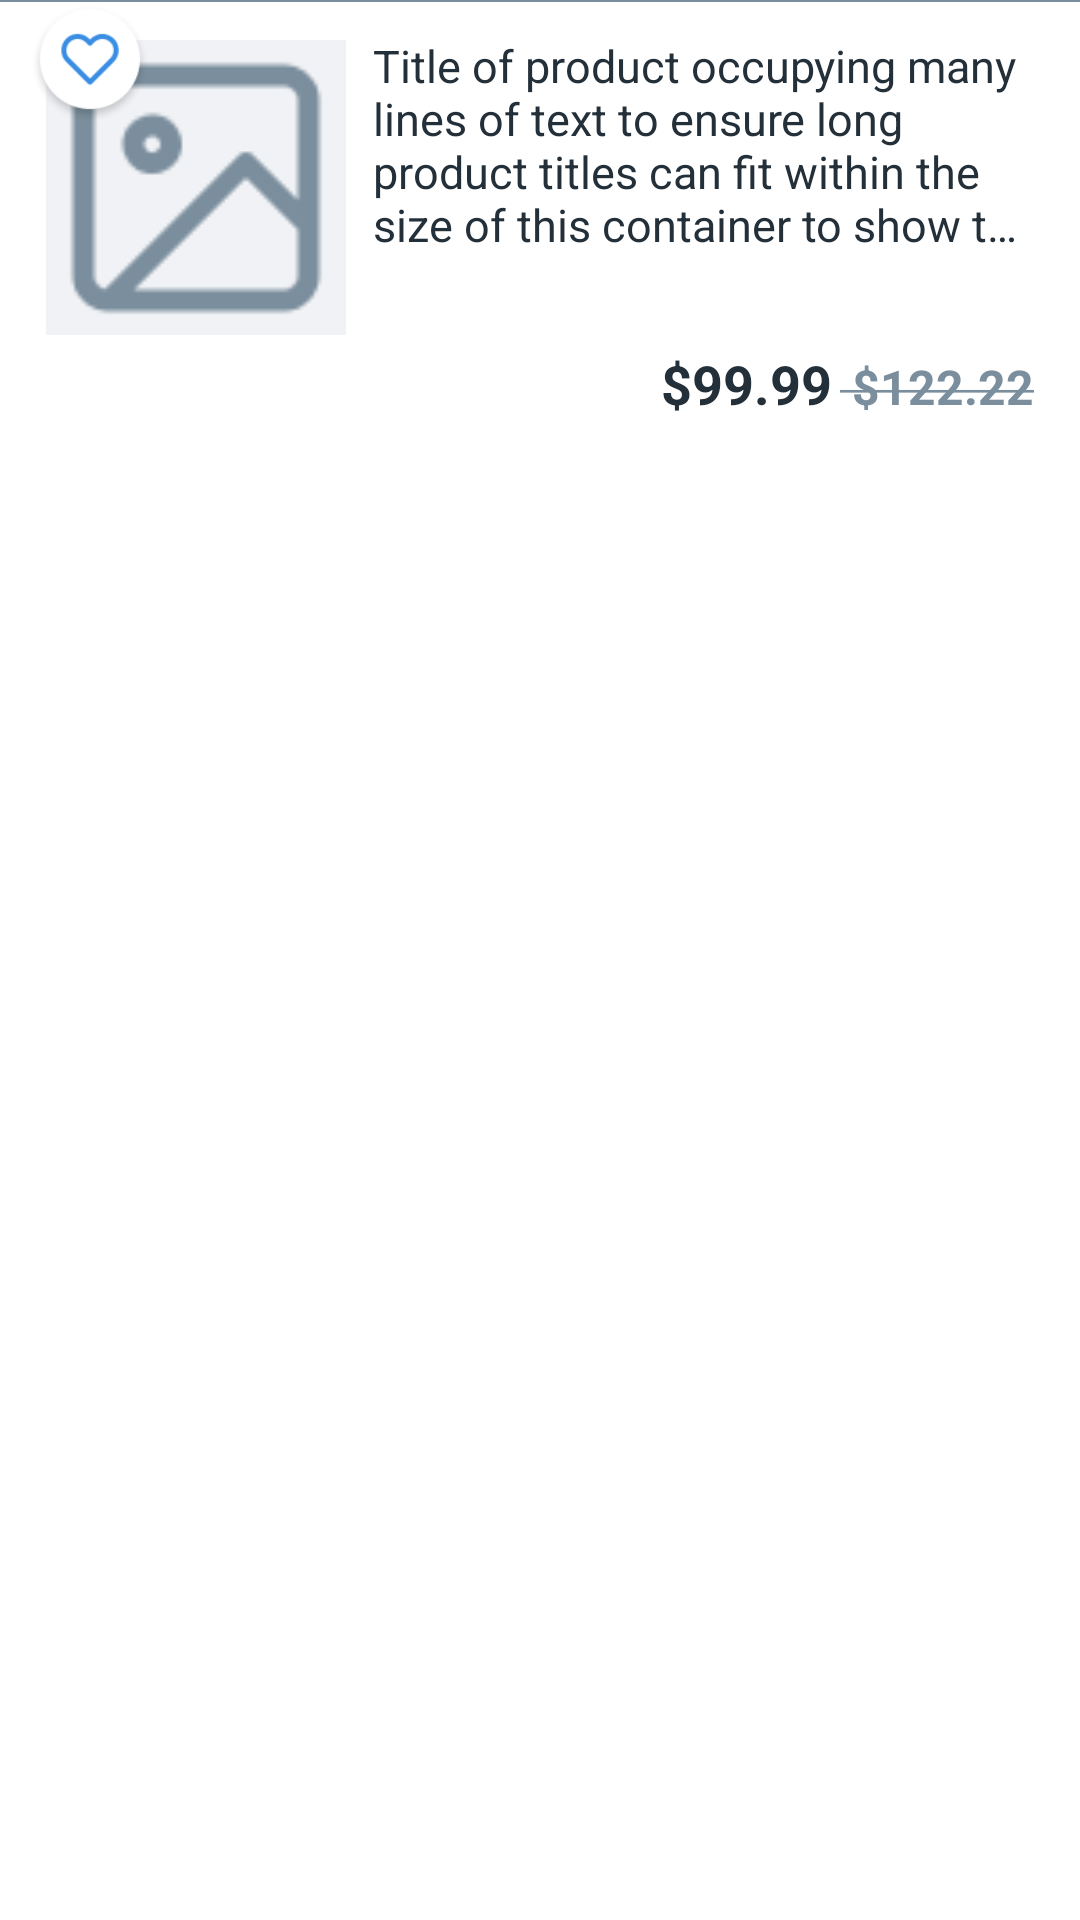

Point at icon controls on the screen. Image size 1080px x 1920px, points as (x,y).
add fav: (95,79)
